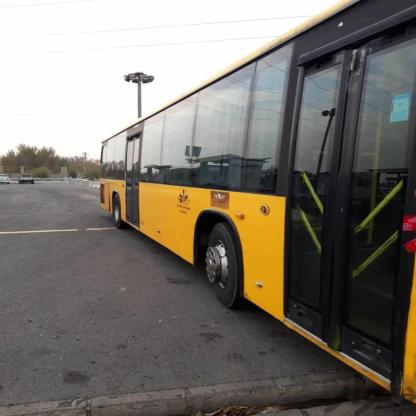Bus: (94, 0, 416, 416)
